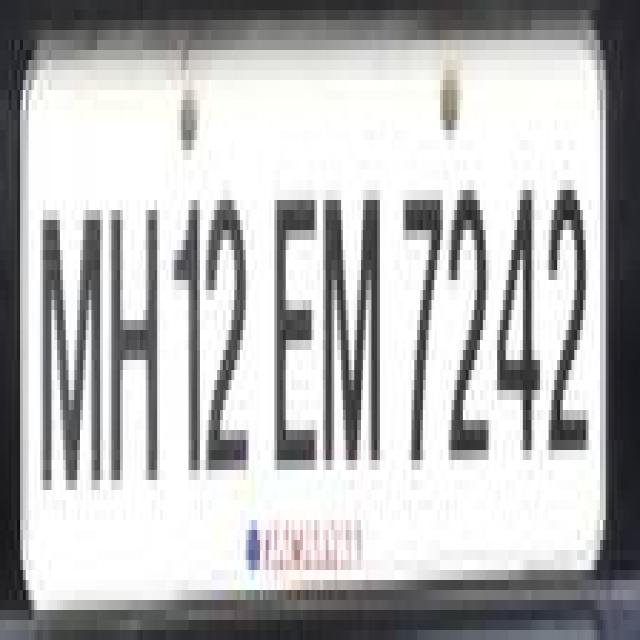license_plate: (6, 0, 608, 610)
